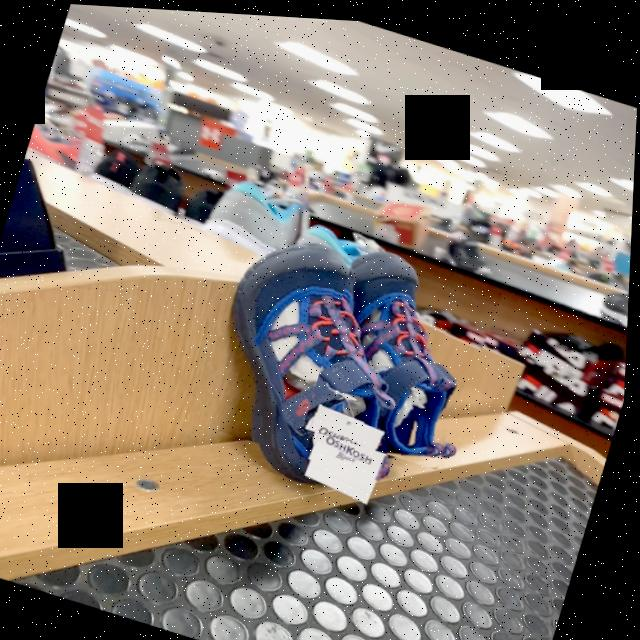shoe: (235, 244, 402, 454), (352, 247, 461, 452)
